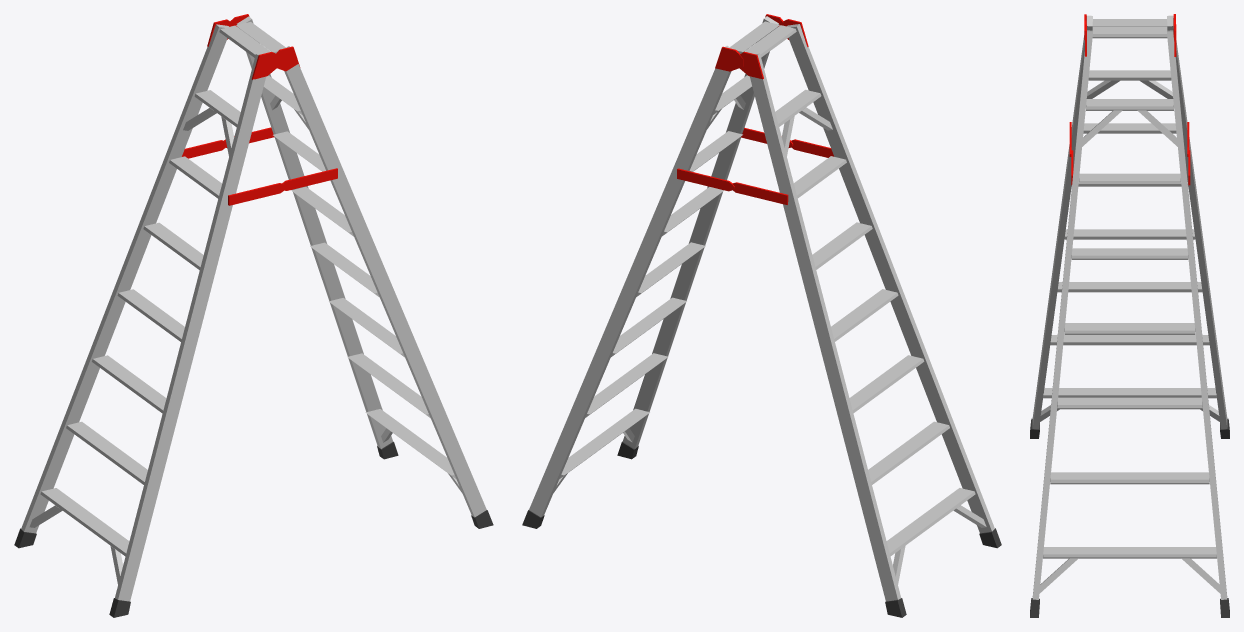
Rendered from stepladder_02_.fbx.
3 views of the same model, side by side, from view 1: azimuth 30°, elevation 25°; view 2: azimuth 150°, elevation 25°; view 3: azimuth 270°, elevation 25° (orthographic).
Visible parts, largest first — view 1: LINE.291, LINE.276, LINE.543, LINE.521, LINE.317, LINE.531, LINE.532, LINE.361, LINE.237, LINE.533, LINE.234, LINE.534 (+6 smaller); view 2: LINE.276, LINE.291, LINE.521, LINE.543, LINE.317, LINE.531, LINE.532, LINE.361, LINE.237, LINE.533, LINE.234, LINE.534 (+6 smaller); view 3: LINE.521, LINE.543, LINE.291, LINE.276, LINE.361, LINE.237, LINE.234, LINE.317, LINE.531, LINE.185, LINE.532, LINE.160 (+11 smaller).
Part boxes in pixels (x1,y1,x2,y2): LINE.291: (115,54,265,601); LINE.276: (21,24,228,533); LINE.543: (284,46,486,517); LINE.521: (237,16,392,448); LINE.317: (40,488,129,556); LINE.531: (66,421,147,484); LINE.532: (92,355,166,413); LINE.361: (365,409,456,479); LINE.237: (347,353,430,417); LINE.533: (117,289,184,341); LINE.234: (329,298,404,357); LINE.534: (143,222,203,269); LINE.276: (749,53,901,601); LINE.291: (787,24,994,533); LINE.521: (529,45,731,517); LINE.543: (622,16,778,448); LINE.317: (886,488,975,556); LINE.531: (868,421,949,484); LINE.532: (849,355,924,413); LINE.361: (559,408,649,478); LINE.237: (585,353,668,417); LINE.533: (831,289,898,341); LINE.234: (611,297,686,356); LINE.534: (812,222,872,269); LINE.521: (1167,30,1227,599); LINE.543: (1032,30,1092,599); LINE.291: (1032,15,1092,429); LINE.276: (1167,15,1227,429); LINE.361: (1043,547,1216,558); LINE.237: (1050,472,1209,484); LINE.234: (1057,397,1202,409); LINE.317: (1043,388,1216,398); LINE.531: (1050,335,1209,345); LINE.185: (1064,323,1195,334); LINE.532: (1057,282,1202,292); LINE.160: (1071,248,1188,259).
Bounding box in the file's own units: 165 × 208 × 74.89.
